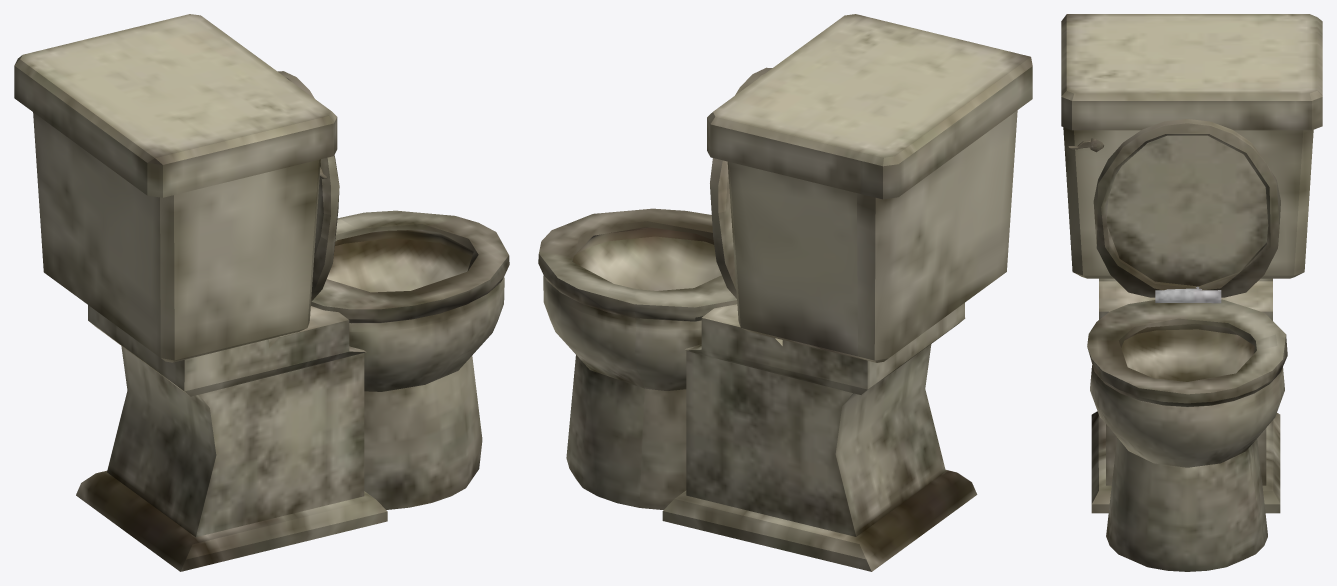
File: toilet.glb
3 renders of one model, left to right at view 1: azimuth 30°, elevation 25°; view 2: azimuth 150°, elevation 25°; view 3: azimuth 270°, elevation 25°, orthographic. The views are drawn at different scales.
Visible parts, largest first — view 1: pCube21_lambert2_0; view 2: pCube21_lambert2_0; view 3: pCube21_lambert2_0, pCylinder4_lambert1_0.
Boxes of the visible parts, box(x1,y1,x2,y2) form: pCube21_lambert2_0: box(14, 14, 509, 571); pCube21_lambert2_0: box(538, 14, 1032, 571); pCube21_lambert2_0: box(1061, 14, 1322, 571); pCylinder4_lambert1_0: box(1155, 286, 1221, 303).
Size of the model in its own units: 106 by 107 by 64.45.
Materials: 2 (2 with a texture image).
